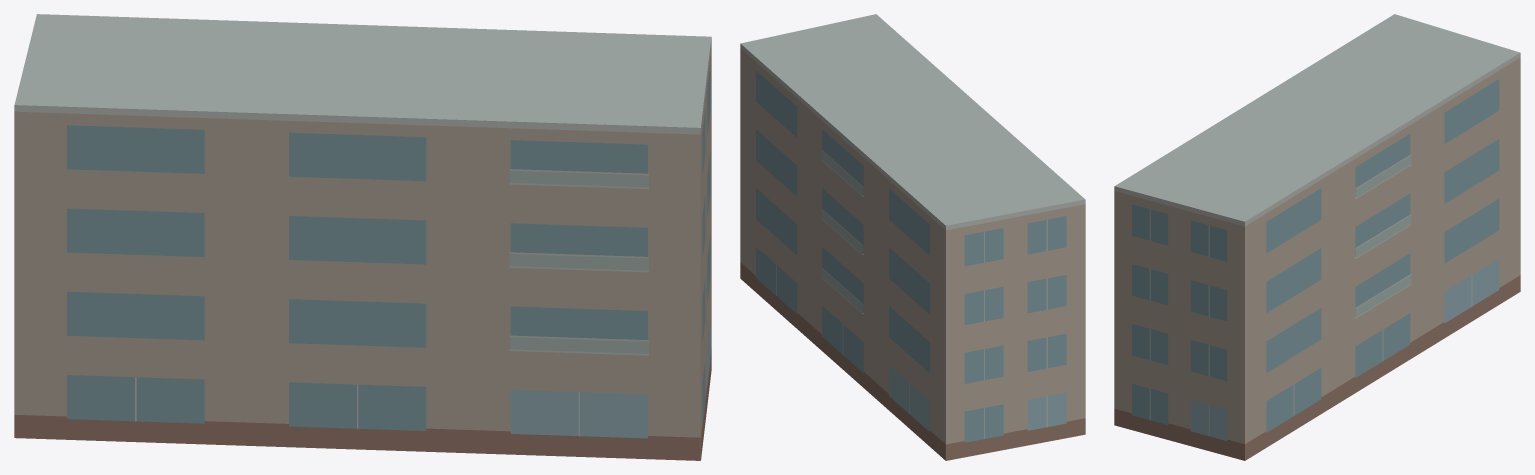
The model's file is survey-upis-32759262.glb.
The picture shows the model from 3 angles, left to right: view 1: azimuth 30°, elevation 25°; view 2: azimuth 150°, elevation 25°; view 3: azimuth 270°, elevation 25°; orthographic projection. The views are drawn at different scales.
Visible parts, largest first — view 1: survey-upis-32759262.tmp; view 2: survey-upis-32759262.tmp; view 3: survey-upis-32759262.tmp.
Boxes of the visible parts, x1,y1,x2,y2 form: survey-upis-32759262.tmp: (14,14,711,460); survey-upis-32759262.tmp: (740,14,1085,460); survey-upis-32759262.tmp: (1114,14,1520,460).
Size of the model in its own units: 22.74 by 12.2 by 18.78.
